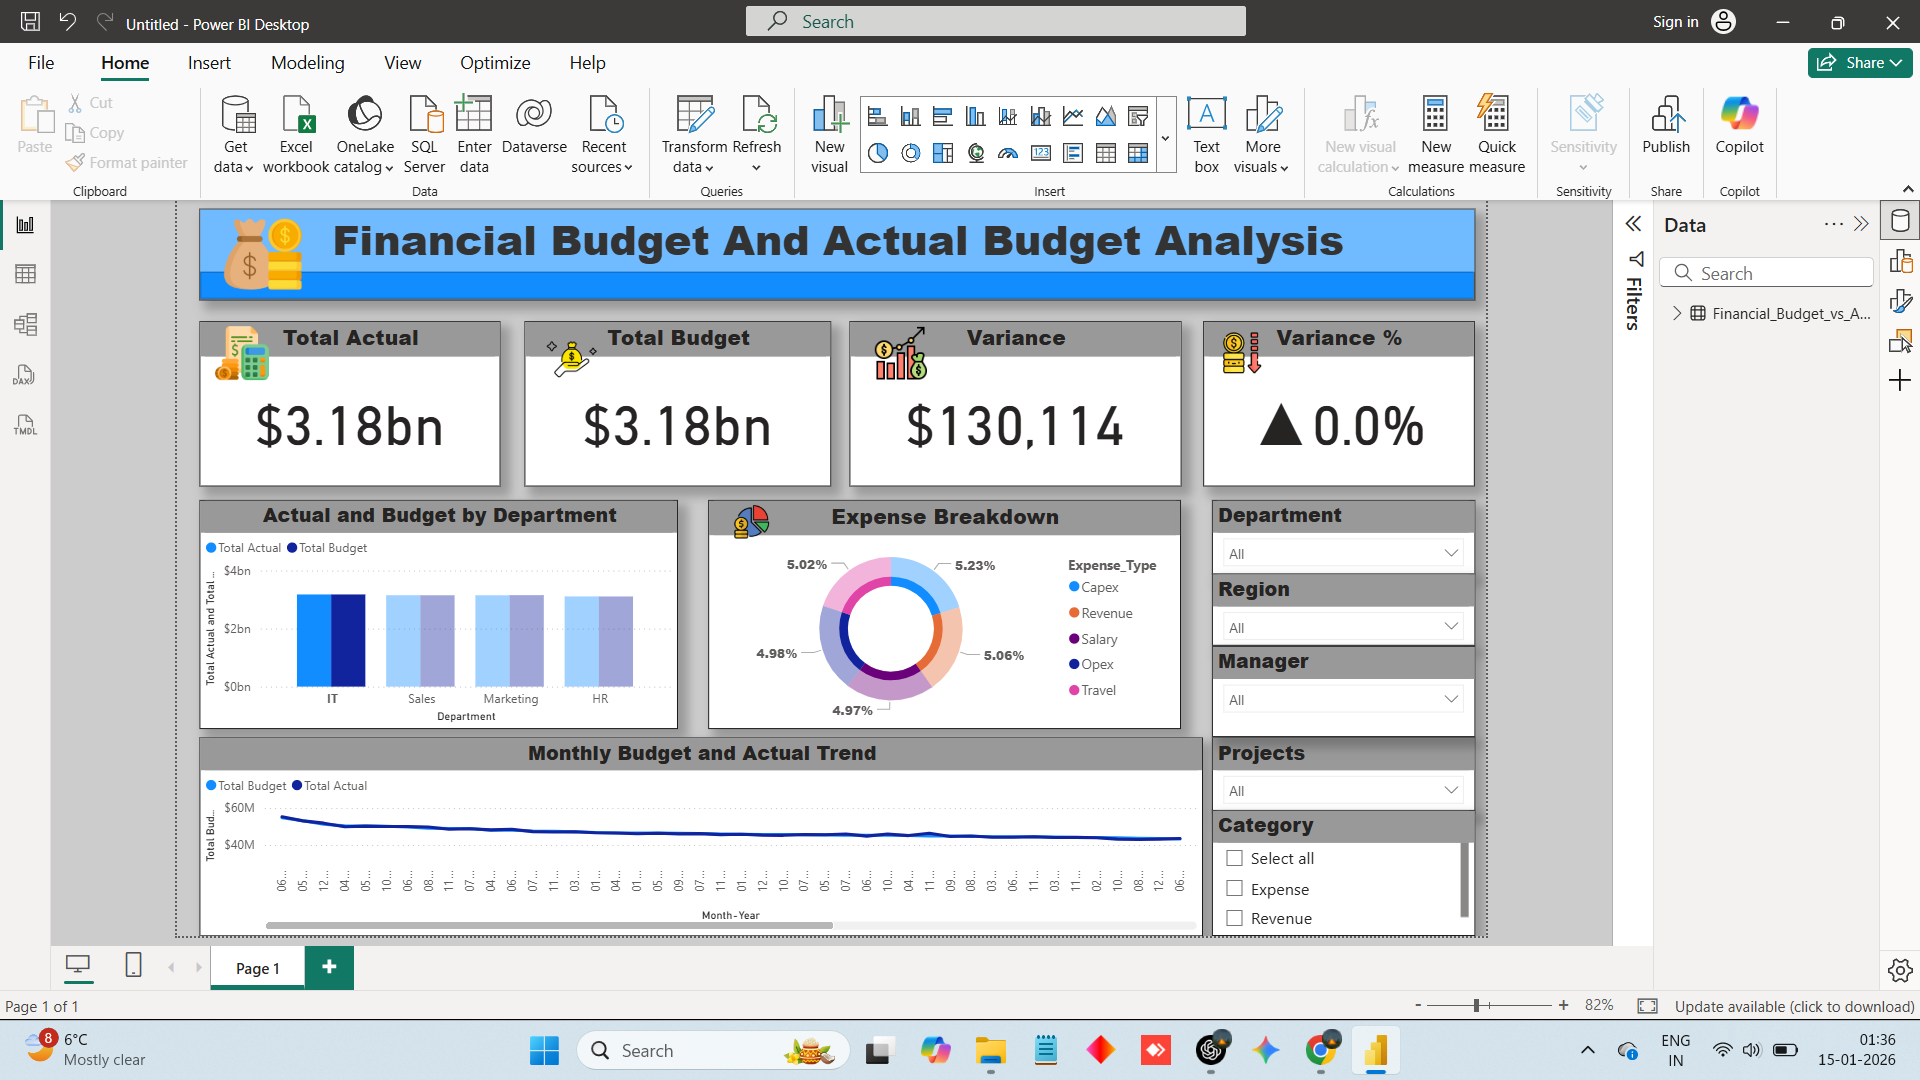

The page's visual inventory and layout, read from the dashboard file:
{"tool":"powerbi","page":{"name":"Page 1","canvas":[1280,720],"ordinal":0},"visuals":[{"type":"card","title":"Total Actual","fields":{"Values":["Financial_Budget_vs_Actual.Total Actual"]},"box":[21.6,118.3,294.3,161.6],"z":0},{"type":"card","title":"Total Budget","fields":{"Values":["Financial_Budget_vs_Actual.Total Budget"]},"box":[340.5,118.3,300.1,161.6],"z":1000},{"type":"card","title":"Variance %","fields":{"Values":["Financial_Budget_vs_Actual.% Variance"]},"box":[1004.2,118.3,265.5,161.6],"z":2000},{"type":"card","title":"Variance","fields":{"Values":["Financial_Budget_vs_Actual.Variance Measure"]},"box":[657.9,118.3,324.6,161.6],"z":3000},{"type":"shape","title":"Financial Budget And Actual Budget Analysis","box":[21.6,8.7,1248,89.5],"z":4000},{"type":"clusteredColumnChart","title":"Actual and Budget by Department","fields":{"Category":["Financial_Budget_vs_Actual.Department"],"Y":["Financial_Budget_vs_Actual.Total Actual","Financial_Budget_vs_Actual.Total Budget"]},"box":[22,293.5,468.3,223.8],"z":5000},{"type":"donutChart","title":"Expense Breakdown","fields":{"Category":["Financial_Budget_vs_Actual.Expense_Type"],"Y":["Financial_Budget_vs_Actual.Total Actual"]},"box":[519.7,293.5,462.2,223.8],"z":6000},{"type":"lineChart","title":"Monthly Budget and Actual Trend","fields":{"Category":["Financial_Budget_vs_Actual.Month-Year"],"Y":["Financial_Budget_vs_Actual.Total Budget","Financial_Budget_vs_Actual.Total Actual"]},"box":[22,525.8,981.9,194.4],"z":7000},{"type":"slicer","title":"Department","fields":{"Values":["Financial_Budget_vs_Actual.Department"]},"box":[1012.9,293.5,257.3,72.5],"z":8000},{"type":"slicer","title":"Region","fields":{"Values":["Financial_Budget_vs_Actual.Region"]},"box":[1012.9,366,257.3,70.7],"z":9000},{"type":"slicer","title":"Projects","fields":{"Values":["Financial_Budget_vs_Actual.Project"]},"box":[1012.9,525.5,257.3,74.3],"z":10000},{"type":"slicer","title":"Manager","fields":{"Values":["Financial_Budget_vs_Actual.Manager"]},"box":[1012.9,436.7,257.3,88.8],"z":11000},{"type":"slicer","title":"Category","fields":{"Values":["Financial_Budget_vs_Actual.Category"]},"box":[1012.9,596.2,257.3,123.2],"z":13000},{"type":"image","box":[22,8.6,124.7,89.3],"z":13001},{"type":"image","box":[539.3,280,47.7,69.7],"z":13002},{"type":"image","box":[22,118.6,83.2,62.4],"z":13003},{"type":"image","box":[1012.5,124.7,59.9,50.1],"z":13004},{"type":"image","box":[673.8,118.6,68.5,62.4],"z":13005},{"type":"image","box":[352.2,118.6,68.5,74.6],"z":13006}]}

Visuals, with their boxes on the page's 1280x720 design canvas (x1, y1, x2, y2). These are canvas units, not pixel positions in the 1920x1080 screenshot, which may show the page scaled, cropped or inside an application window:
"Total Actual" card: <bbox>22, 118, 316, 280</bbox>
"Total Budget" card: <bbox>340, 118, 641, 280</bbox>
"Variance %" card: <bbox>1004, 118, 1270, 280</bbox>
"Variance" card: <bbox>658, 118, 982, 280</bbox>
"Financial Budget And Actual Budget Analysis" shape: <bbox>22, 9, 1270, 98</bbox>
"Actual and Budget by Department" clusteredColumnChart: <bbox>22, 294, 490, 517</bbox>
"Expense Breakdown" donutChart: <bbox>520, 294, 982, 517</bbox>
"Monthly Budget and Actual Trend" lineChart: <bbox>22, 526, 1004, 720</bbox>
"Department" slicer: <bbox>1013, 294, 1270, 366</bbox>
"Region" slicer: <bbox>1013, 366, 1270, 437</bbox>
"Projects" slicer: <bbox>1013, 526, 1270, 600</bbox>
"Manager" slicer: <bbox>1013, 437, 1270, 526</bbox>
"Category" slicer: <bbox>1013, 596, 1270, 719</bbox>
image: <bbox>22, 9, 147, 98</bbox>
image: <bbox>539, 280, 587, 350</bbox>
image: <bbox>22, 119, 105, 181</bbox>
image: <bbox>1012, 125, 1072, 175</bbox>
image: <bbox>674, 119, 742, 181</bbox>
image: <bbox>352, 119, 421, 193</bbox>
